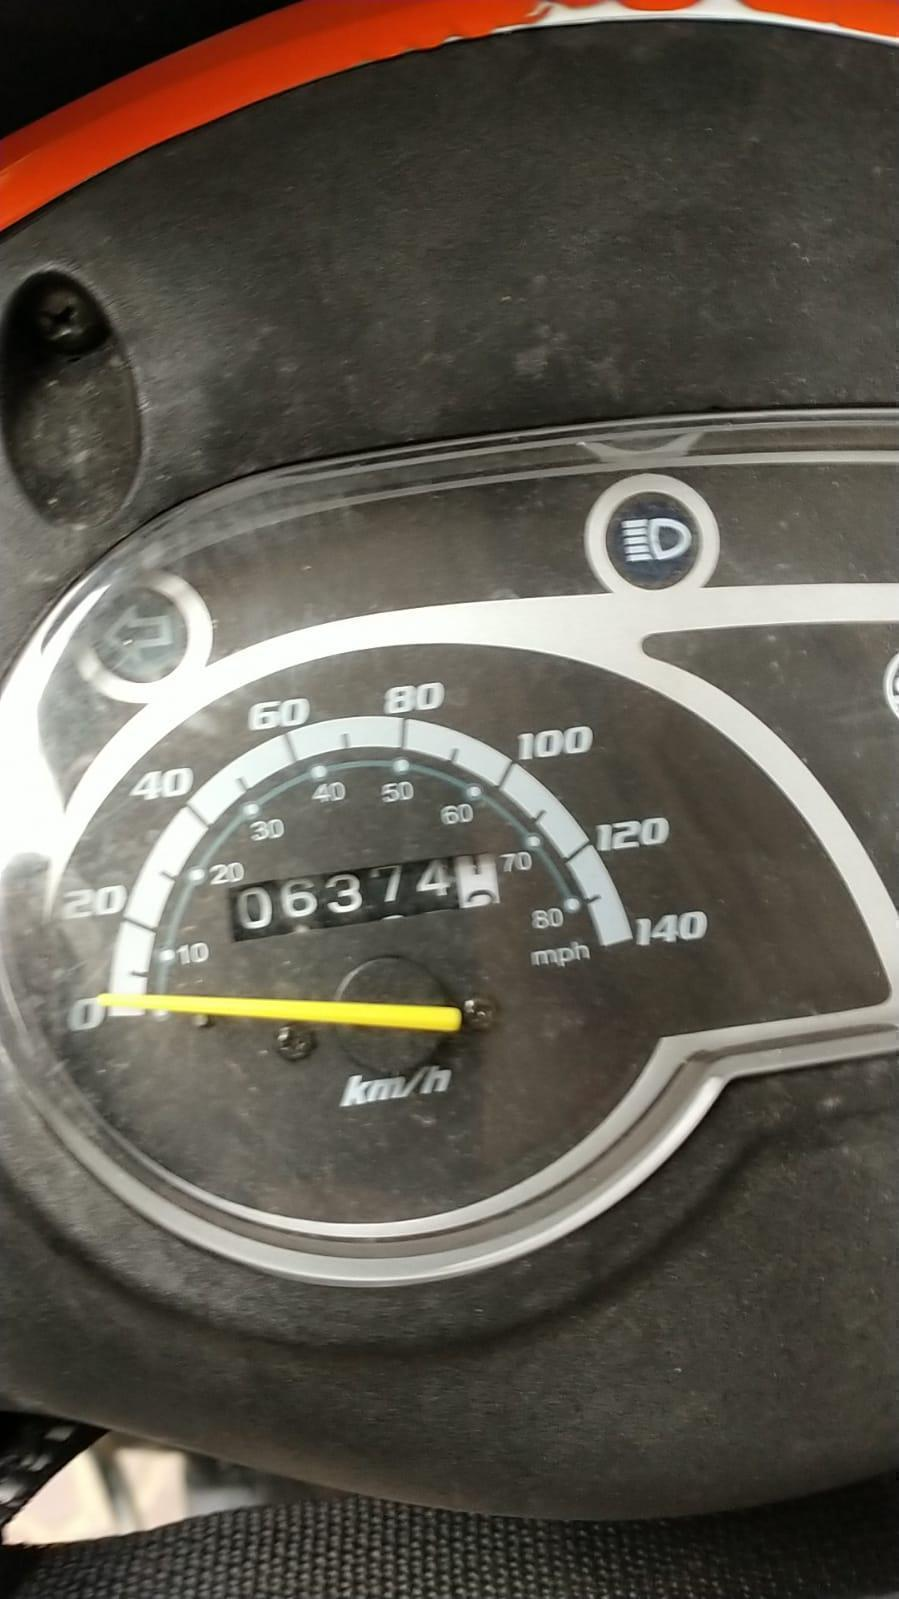0: (234, 886, 272, 933), (227, 859, 246, 883)
1: (465, 842, 492, 883)
3: (324, 870, 363, 916)
4: (417, 856, 457, 905)
6: (276, 873, 316, 920)
7: (368, 861, 411, 905)
odometer: (223, 850, 502, 946)
